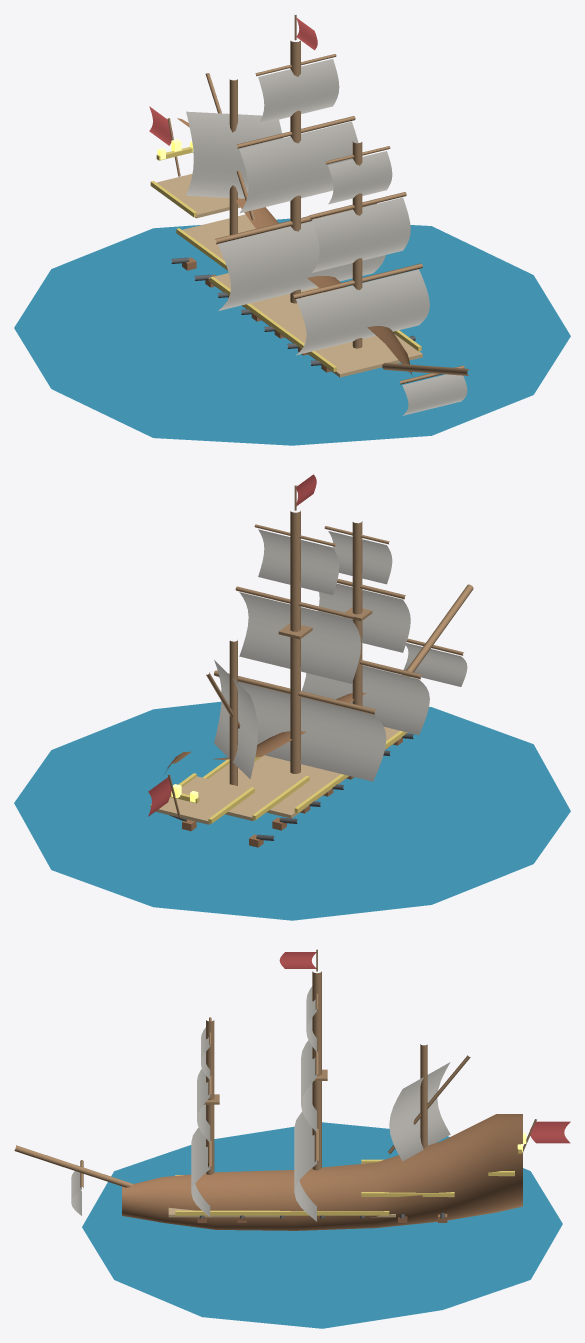
The model's file is warship.glb.
3 renders of one model, top to bottom at view 1: azimuth 30°, elevation 25°; view 2: azimuth 150°, elevation 25°; view 3: azimuth 270°, elevation 25°, orthographic. The views are drawn at different scales.
Parts seen in each view (by area): view 1: Node_8, Node_5, Node_4, Node_1, Node_2, Node_0, Node_6; view 2: Node_8, Node_5, Node_4, Node_1, Node_2, Node_0, Node_6; view 3: Node_8, Node_0, Node_5, Node_4, Node_2, Node_6, Node_1.
Part boxes in pixels (box(x1,y1,x2,y2)): Node_8: box(14, 218, 570, 445); Node_5: box(186, 59, 467, 415); Node_4: box(167, 15, 470, 384); Node_1: box(156, 174, 422, 377); Node_2: box(150, 147, 421, 371); Node_0: box(177, 118, 412, 375); Node_6: box(149, 17, 317, 145); Node_8: box(14, 701, 570, 920); Node_5: box(214, 529, 467, 781); Node_4: box(167, 485, 473, 817); Node_1: box(155, 727, 408, 824); Node_2: box(150, 731, 407, 823); Node_0: box(165, 692, 402, 847); Node_6: box(148, 474, 316, 816); Node_8: box(82, 1122, 562, 1328); Node_0: box(122, 1114, 522, 1230); Node_5: box(71, 986, 450, 1221); Node_4: box(14, 949, 536, 1187); Node_2: box(175, 1149, 522, 1215); Node_6: box(279, 952, 570, 1143); Node_1: box(168, 1163, 514, 1217).
Size of the model in its own units: 18 by 11.55 by 20.84.
